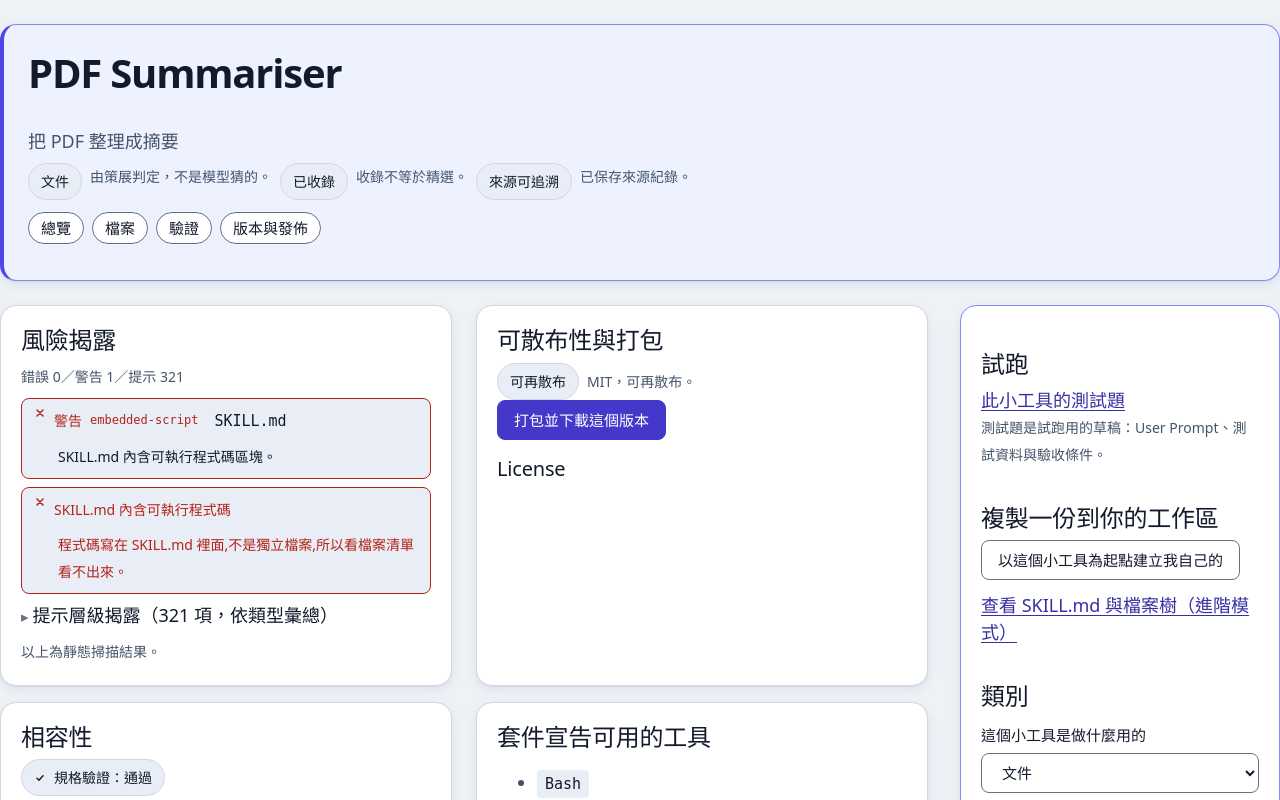
Test: 05 R-19: 類別儲存結果未確認時不宣稱一定沒有設定成功
Step 1. Select "寫作" in the dropdown with id "skill-category" → coordinates (1120, 773), box [981,753,1259,793]
(page scrolled)
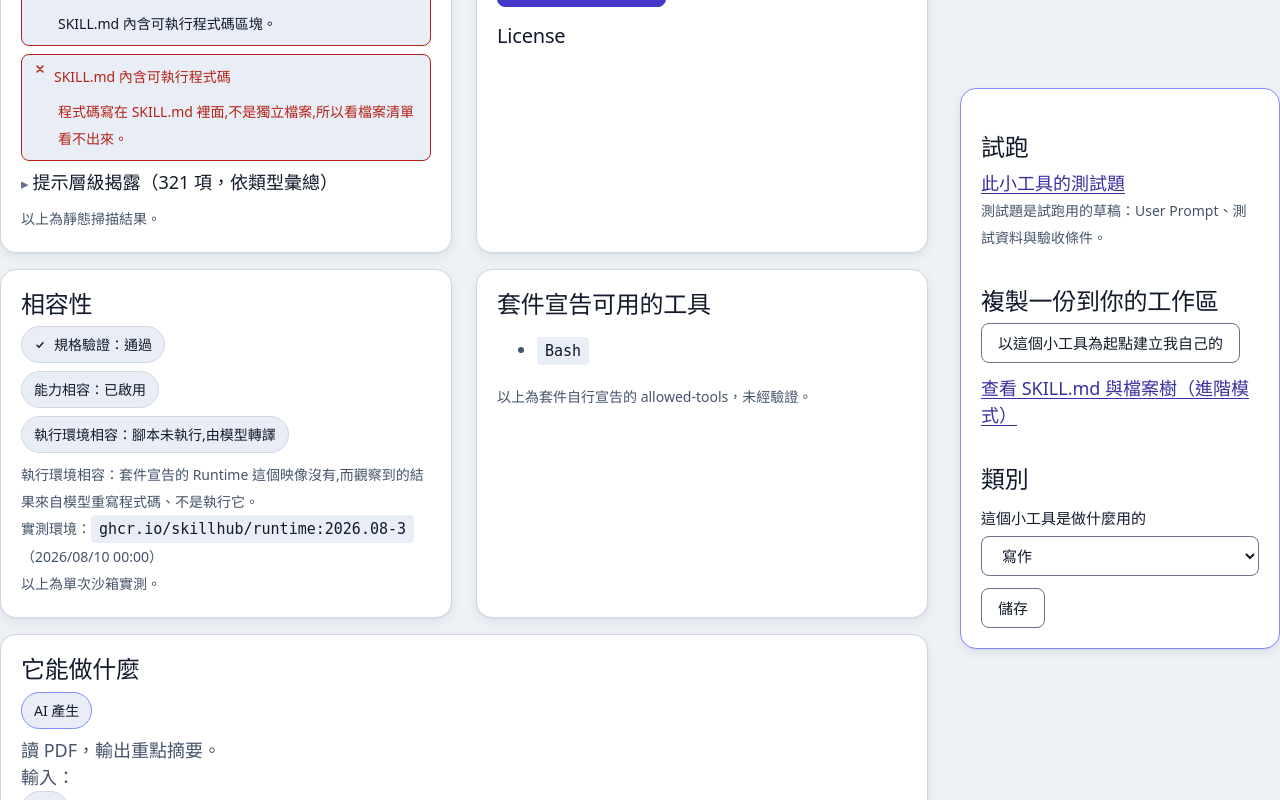
Step 2. Click the button "儲存" → coordinates (1013, 608), box [981,588,1045,628]
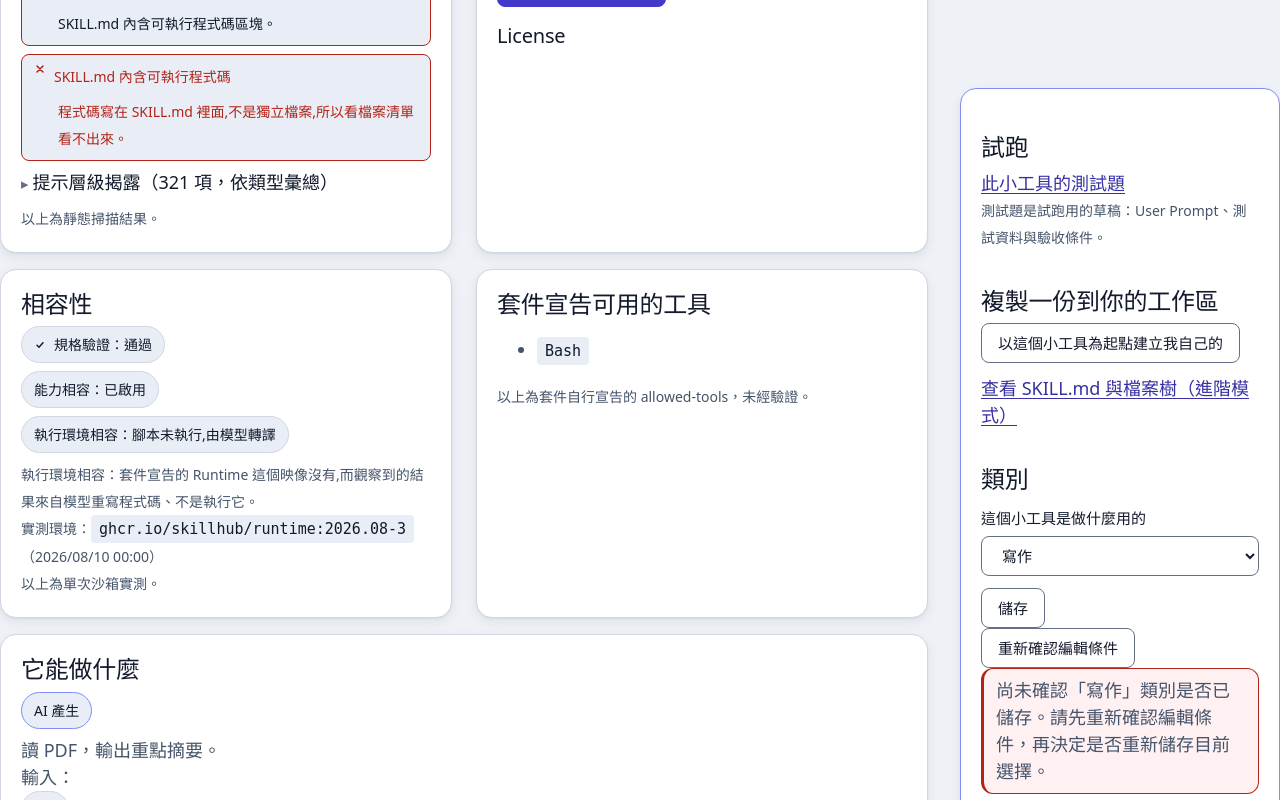
Expected: the message "尚未確認「寫作」類別是否已儲存。請先重新確認編輯條件，再決定是否重新儲存目前選擇。" is shown, [981,668,1259,794]
